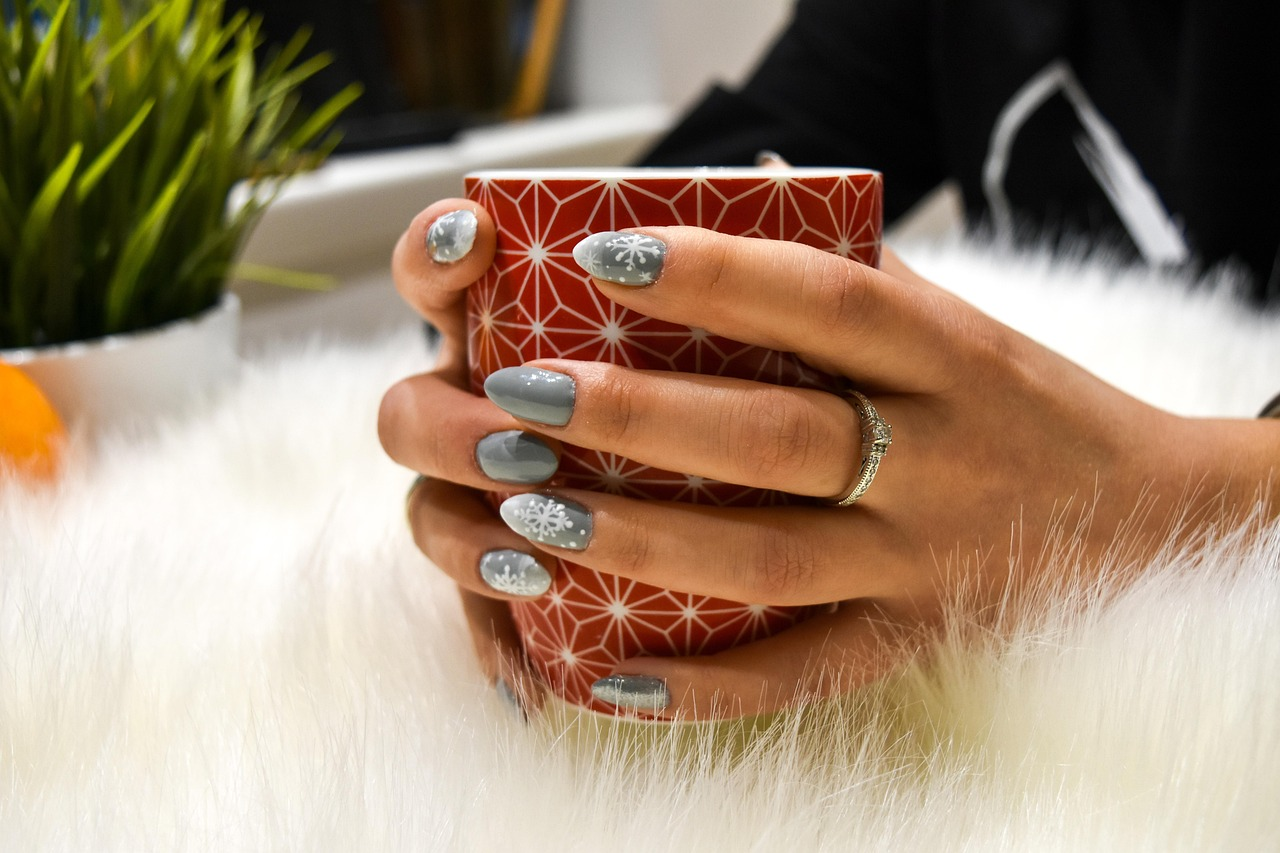mug: (416, 126, 935, 761)
